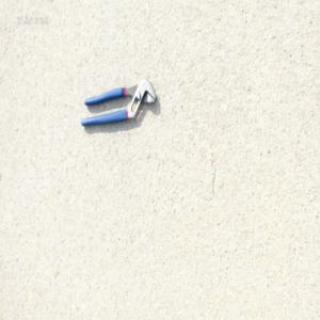Pliertrack_idkeyframe: (78, 76, 155, 128)
